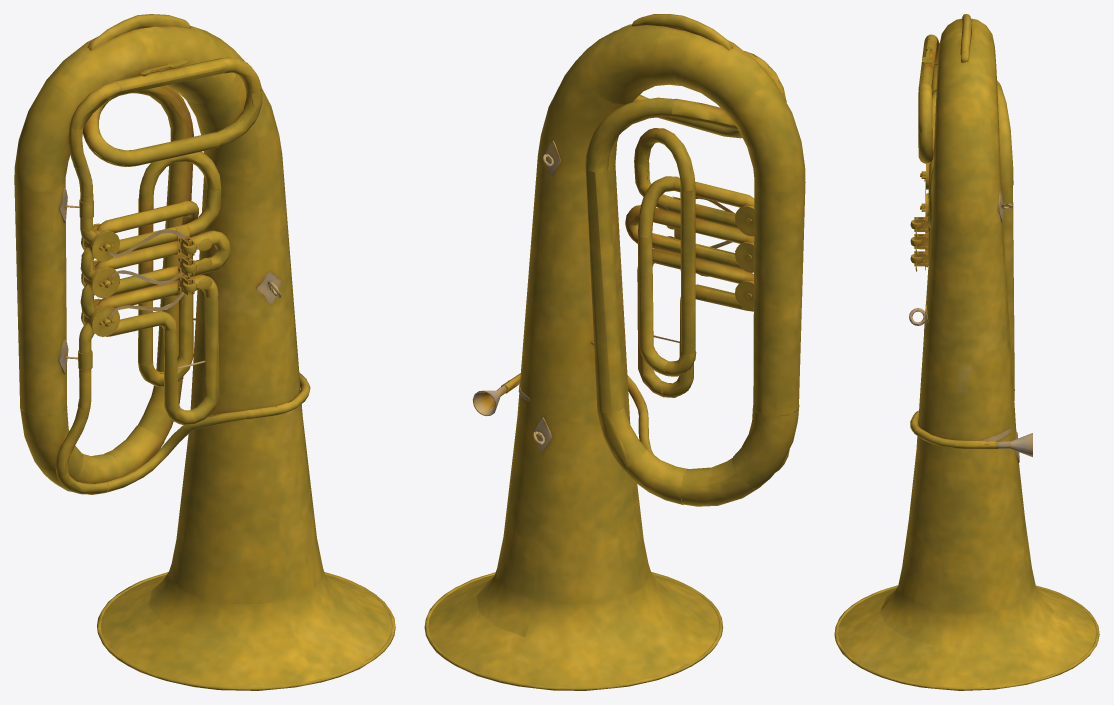
Rendered from orchestral-trumpet---оркестровая-труба-73edd3.glb.
3 views of the same model, side by side, from view 1: azimuth 30°, elevation 25°; view 2: azimuth 150°, elevation 25°; view 3: azimuth 270°, elevation 25° (orthographic). The views are drawn at different scales.
Parts seen in each view (by area): view 1: PropMesh; view 2: PropMesh; view 3: PropMesh.
Part boxes in pixels (box(x1,y1,x2,y2)): PropMesh: box(14, 14, 395, 690); PropMesh: box(424, 14, 805, 690); PropMesh: box(834, 14, 1099, 690).
Size of the model in its own units: 0.2932 by 0.5 by 0.2119.
Materials: 1 (1 with a texture image).
